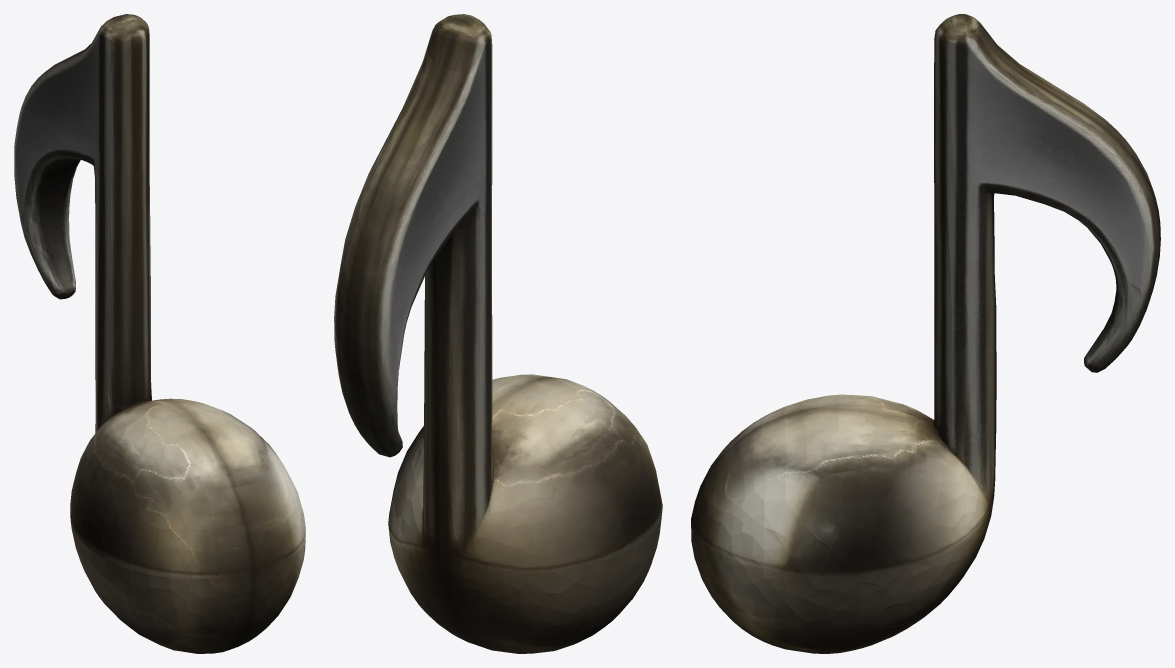
Rendered from music-note.glb.
The picture shows the model from 3 angles, left to right: view 1: azimuth 30°, elevation 25°; view 2: azimuth 150°, elevation 25°; view 3: azimuth 270°, elevation 25°; orthographic projection. The views are drawn at different scales.
Parts seen in each view (by area): view 1: world; view 2: world; view 3: world.
Boxes of the visible parts, x1,y1,x2,y2 form: world: (14,14,305,653); world: (334,14,662,653); world: (691,14,1160,653).
Size of the model in its own units: 0.3494 by 0.9982 by 0.6802.
1 material, 1 textured.
